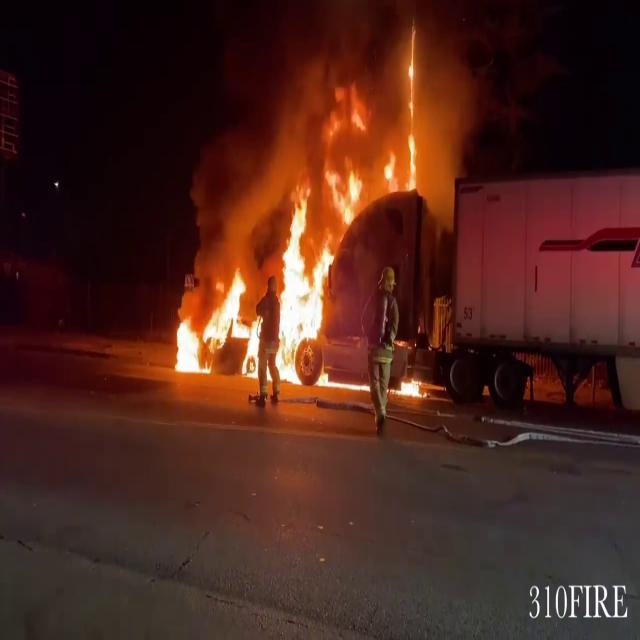Fire: (164, 170, 348, 387), (392, 371, 432, 403)
Smoke: (236, 0, 469, 210)
